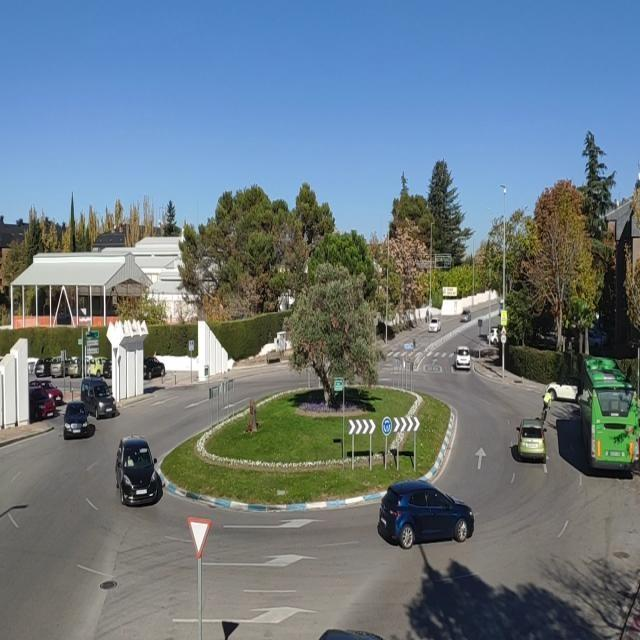Bus: (579, 354, 640, 477)
Car: (377, 480, 473, 549), (114, 437, 162, 505), (80, 378, 117, 420), (516, 418, 548, 463), (63, 401, 93, 438), (28, 386, 58, 420), (316, 627, 390, 640), (29, 380, 64, 404), (544, 379, 579, 402), (85, 356, 110, 378), (143, 356, 166, 379), (49, 357, 72, 379), (67, 356, 91, 377), (34, 356, 54, 378), (535, 329, 557, 348), (588, 329, 608, 349), (455, 346, 471, 370), (488, 326, 501, 346), (102, 357, 112, 378), (428, 317, 441, 332), (460, 310, 471, 322)
Cycle: (542, 398, 551, 423)
